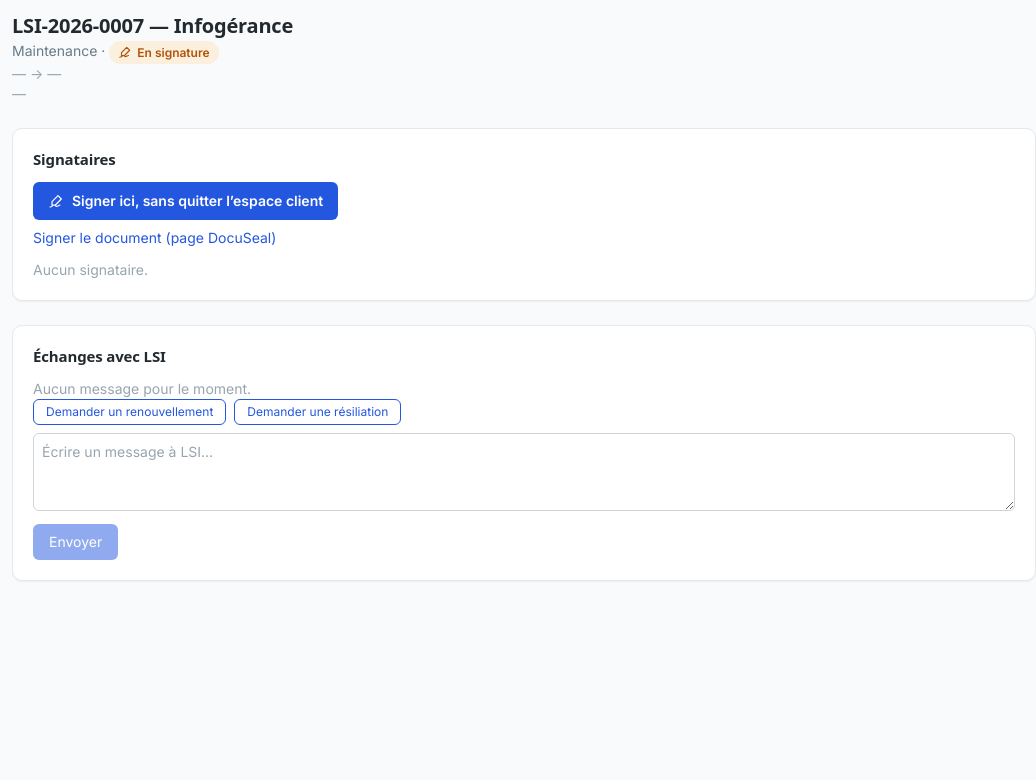
Test case: signature intégrée indisponible (503 DOCUSEAL_UNAVAILABLE) : message clair
The width and height of the screenshot is (1036, 780).
What coordinates should you click on to do the following:
click the button "Signer ici, sans quitter l’espace client"
I would click on:
 (186, 201)
Its box is [33, 182, 338, 220].
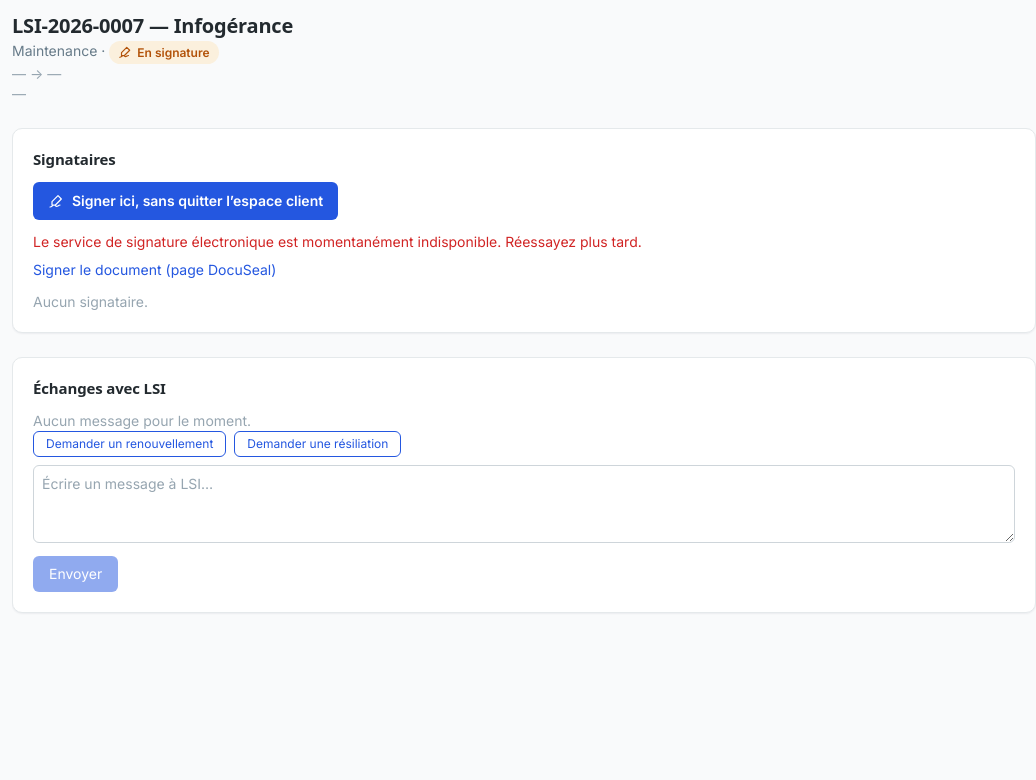
Check: the message shows "momentanément indisponible", box [33, 233, 642, 250]
